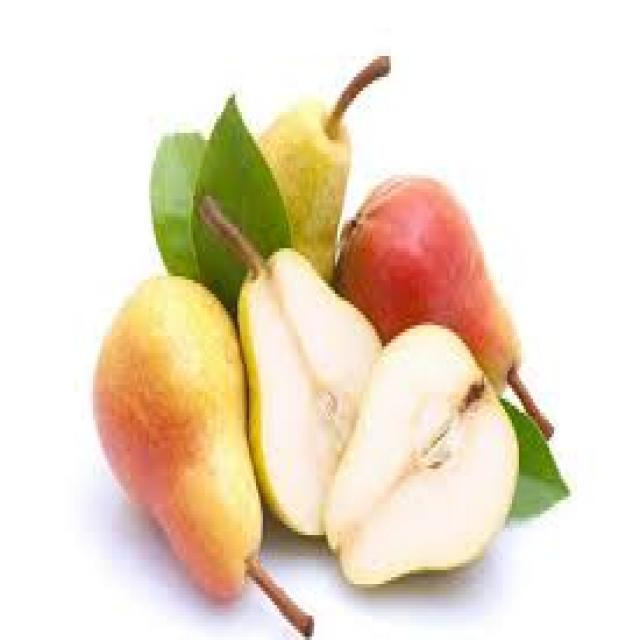organic waste: (93, 269, 310, 633), (198, 192, 384, 538), (332, 168, 552, 437), (318, 318, 516, 588), (251, 49, 391, 280), (186, 87, 289, 308), (498, 392, 570, 518), (149, 126, 207, 280)
